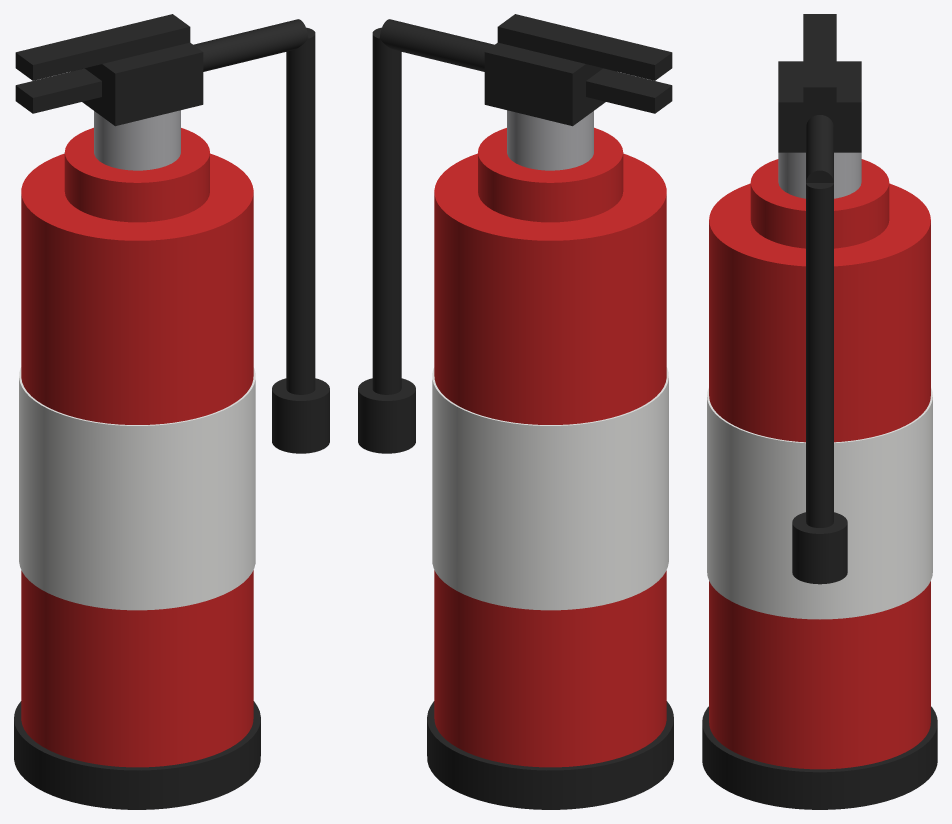
Rendered from Extintor.obj.
3 views of the same model, side by side, from view 1: azimuth 30°, elevation 25°; view 2: azimuth 150°, elevation 25°; view 3: azimuth 270°, elevation 25° (orthographic). The views are drawn at different scales.
Parts seen in each view (by area): view 1: Cuerpo, Banda_blanca, Base, Manguera_baja, Hombro, Valvula, Asa, Cuello, Boquilla, Manguera_arriba, Palanca; view 2: Cuerpo, Banda_blanca, Base, Manguera_baja, Hombro, Valvula, Asa, Cuello, Boquilla, Manguera_arriba, Palanca; view 3: Cuerpo, Banda_blanca, Base, Manguera_baja, Hombro, Valvula, Boquilla, Asa, Cuello, Manguera_arriba.
Boxes of the visible parts, left/top/right/bottom form: Cuerpo: left=21, top=153, right=253, bottom=767; Banda_blanca: left=19, top=367, right=255, bottom=610; Base: left=14, top=701, right=260, bottom=809; Manguera_baja: left=286, top=27, right=315, bottom=394; Hombro: left=64, top=127, right=209, bottom=222; Valvula: left=81, top=42, right=203, bottom=126; Asa: left=15, top=14, right=190, bottom=80; Cuello: left=94, top=110, right=180, bottom=170; Boquilla: left=272, top=378, right=329, bottom=453; Manguera_arriba: left=193, top=19, right=308, bottom=71; Palanca: left=15, top=68, right=101, bottom=113; Cuerpo: left=434, top=153, right=666, bottom=767; Banda_blanca: left=432, top=367, right=668, bottom=610; Base: left=427, top=701, right=673, bottom=809; Manguera_baja: left=372, top=27, right=401, bottom=394; Hombro: left=478, top=127, right=623, bottom=222; Valvula: left=484, top=42, right=606, bottom=126; Asa: left=497, top=14, right=672, bottom=80; Cuello: left=507, top=110, right=593, bottom=170; Boquilla: left=358, top=378, right=415, bottom=453; Manguera_arriba: left=379, top=19, right=494, bottom=71; Palanca: left=586, top=68, right=672, bottom=113; Cuerpo: left=709, top=183, right=930, bottom=769; Banda_blanca: left=707, top=388, right=932, bottom=619; Base: left=702, top=706, right=937, bottom=809; Manguera_baja: left=806, top=183, right=833, bottom=527; Hombro: left=750, top=159, right=889, bottom=248; Valvula: left=778, top=61, right=861, bottom=152; Boquilla: left=792, top=512, right=847, bottom=584; Asa: left=803, top=14, right=836, bottom=102; Cuello: left=778, top=152, right=861, bottom=198; Manguera_arriba: left=806, top=115, right=833, bottom=182.
Bounding box in the file's own units: 0.24 × 0.552 × 0.17.
4 materials, 4 textured.
